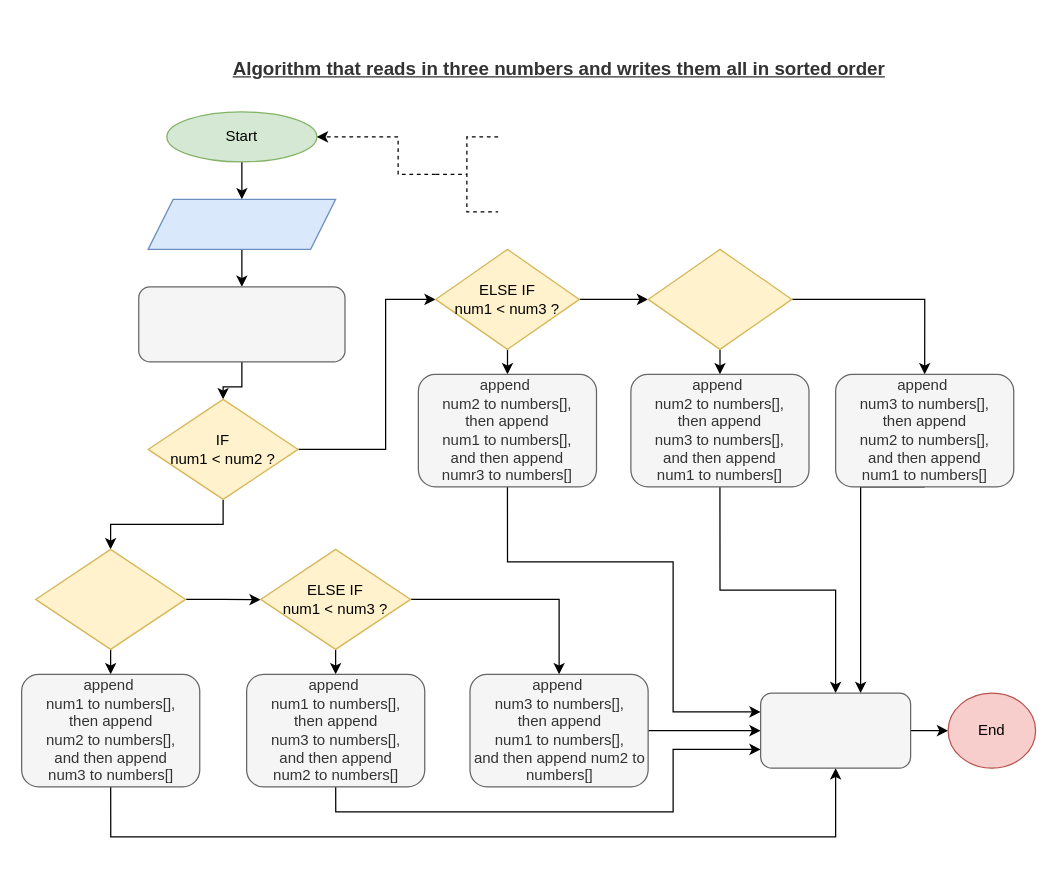
This 1059x869 diagram has some shape labels left out. The box of each missing label's shape, as (x1, y1, x2, y2) in pixels:
ELSE IF num2 < num3 ?: (647, 248, 792, 349)
Function sort_numbers(int num1, num2, num3);: (434, 136, 498, 212)
IF num2 < num3 ?: (34, 548, 186, 649)
Initialize array of numbers[], equal to empty: (138, 286, 345, 362)
input: int num1, num2, num3: (147, 198, 336, 249)
print numbers[]: (759, 692, 911, 768)
